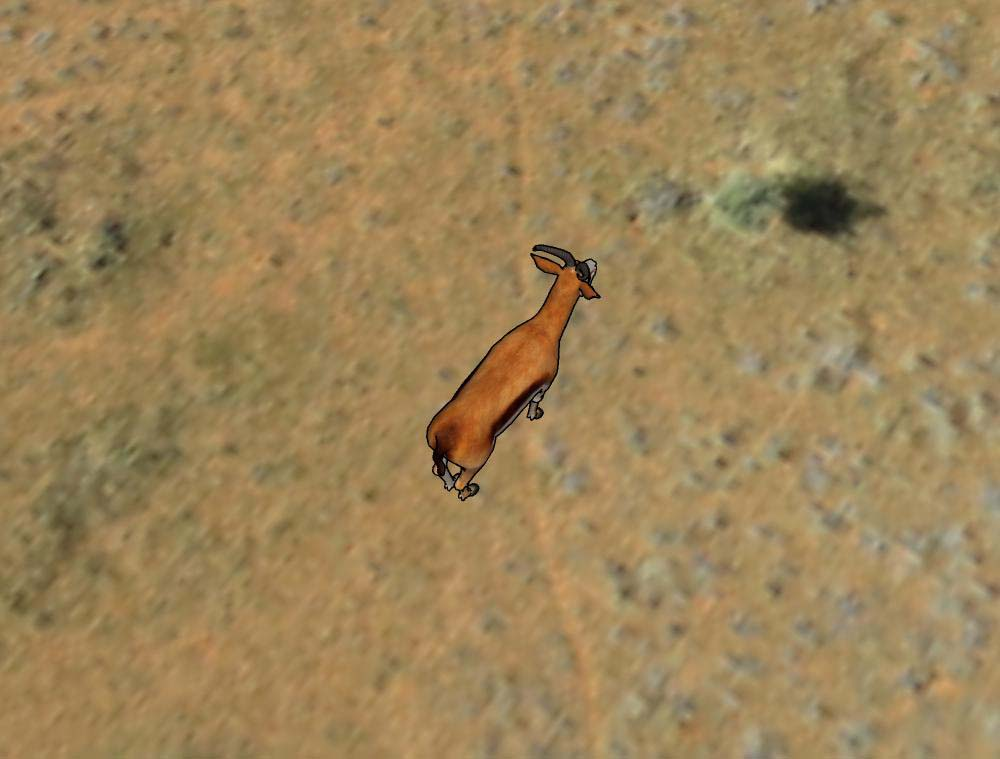springbok: (424, 244, 604, 509)
